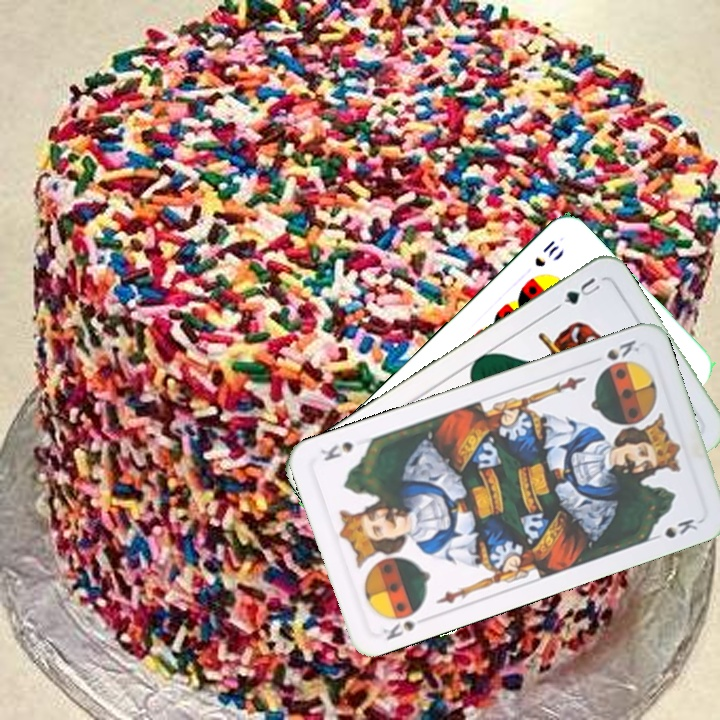GU: (551, 273, 603, 312)
S10: (530, 236, 562, 270)
SK: (378, 603, 425, 643), (602, 335, 643, 363)
